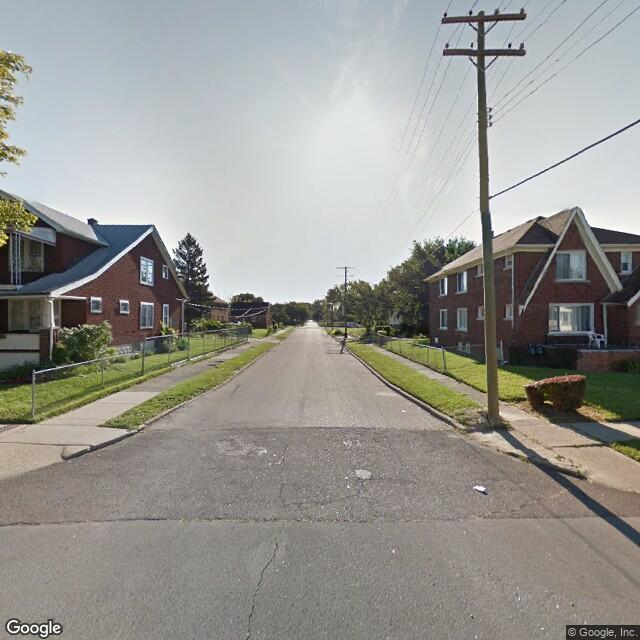litter: (472, 481, 489, 495)
